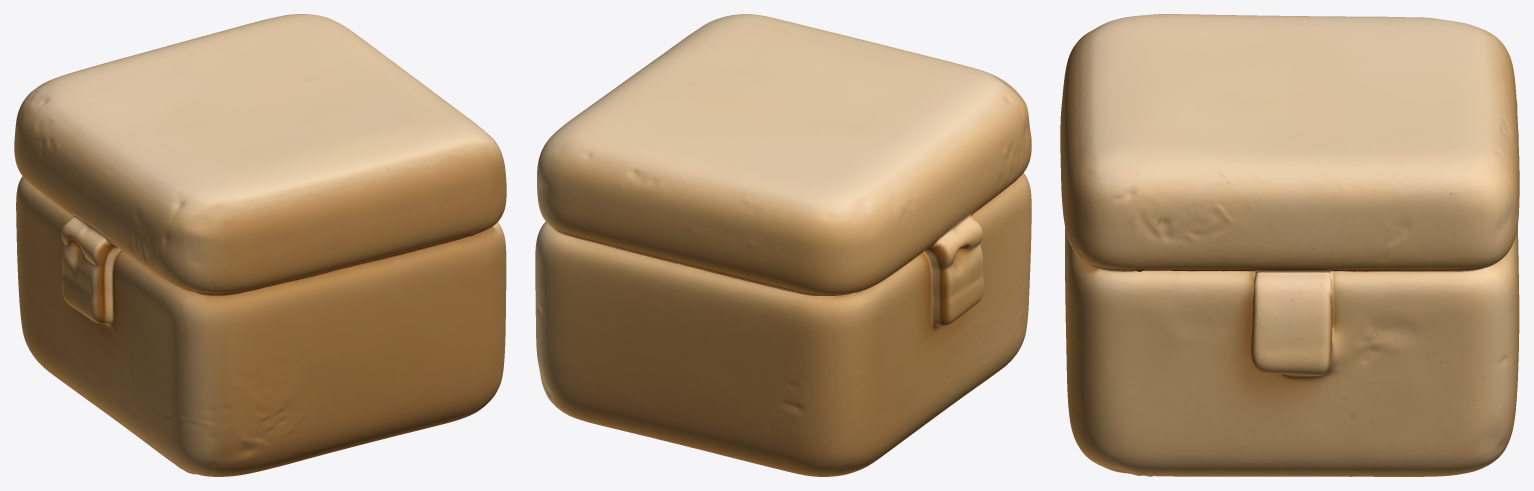
File: 便当盒3d模型.glb
3 renders of one model, left to right at view 1: azimuth 30°, elevation 25°; view 2: azimuth 150°, elevation 25°; view 3: azimuth 270°, elevation 25°, orthographic. The views are drawn at different scales.
Parts seen in each view (by area): view 1: tripo_node_d329d6d5-d6ca-4085-a273-4a6dacac01b1; view 2: tripo_node_d329d6d5-d6ca-4085-a273-4a6dacac01b1; view 3: tripo_node_d329d6d5-d6ca-4085-a273-4a6dacac01b1.
Part boxes in pixels (<box>): tripo_node_d329d6d5-d6ca-4085-a273-4a6dacac01b1: <box>14,14,506,476</box>; tripo_node_d329d6d5-d6ca-4085-a273-4a6dacac01b1: <box>535,14,1031,476</box>; tripo_node_d329d6d5-d6ca-4085-a273-4a6dacac01b1: <box>1060,14,1519,476</box>.
Bounding box in the file's own units: 1 × 0.7468 × 0.9578.
1 material, 1 textured.
